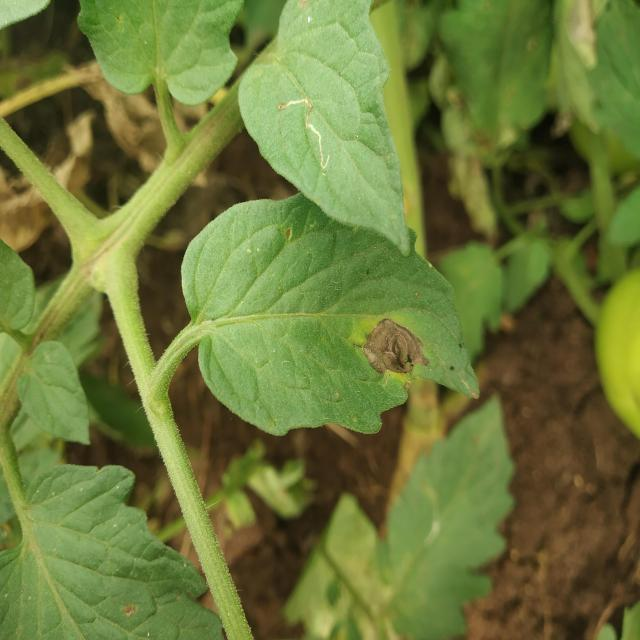Early Blight: (202, 182, 446, 481)
